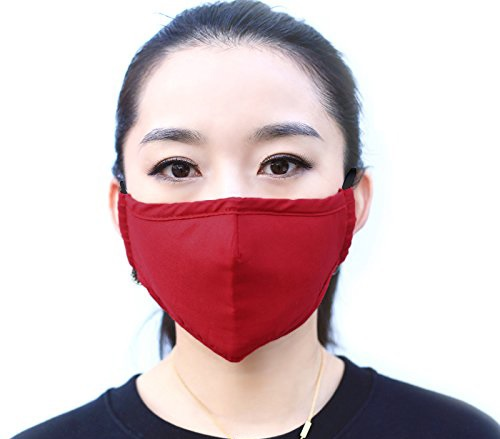face_mask: (122, 43, 354, 343)
